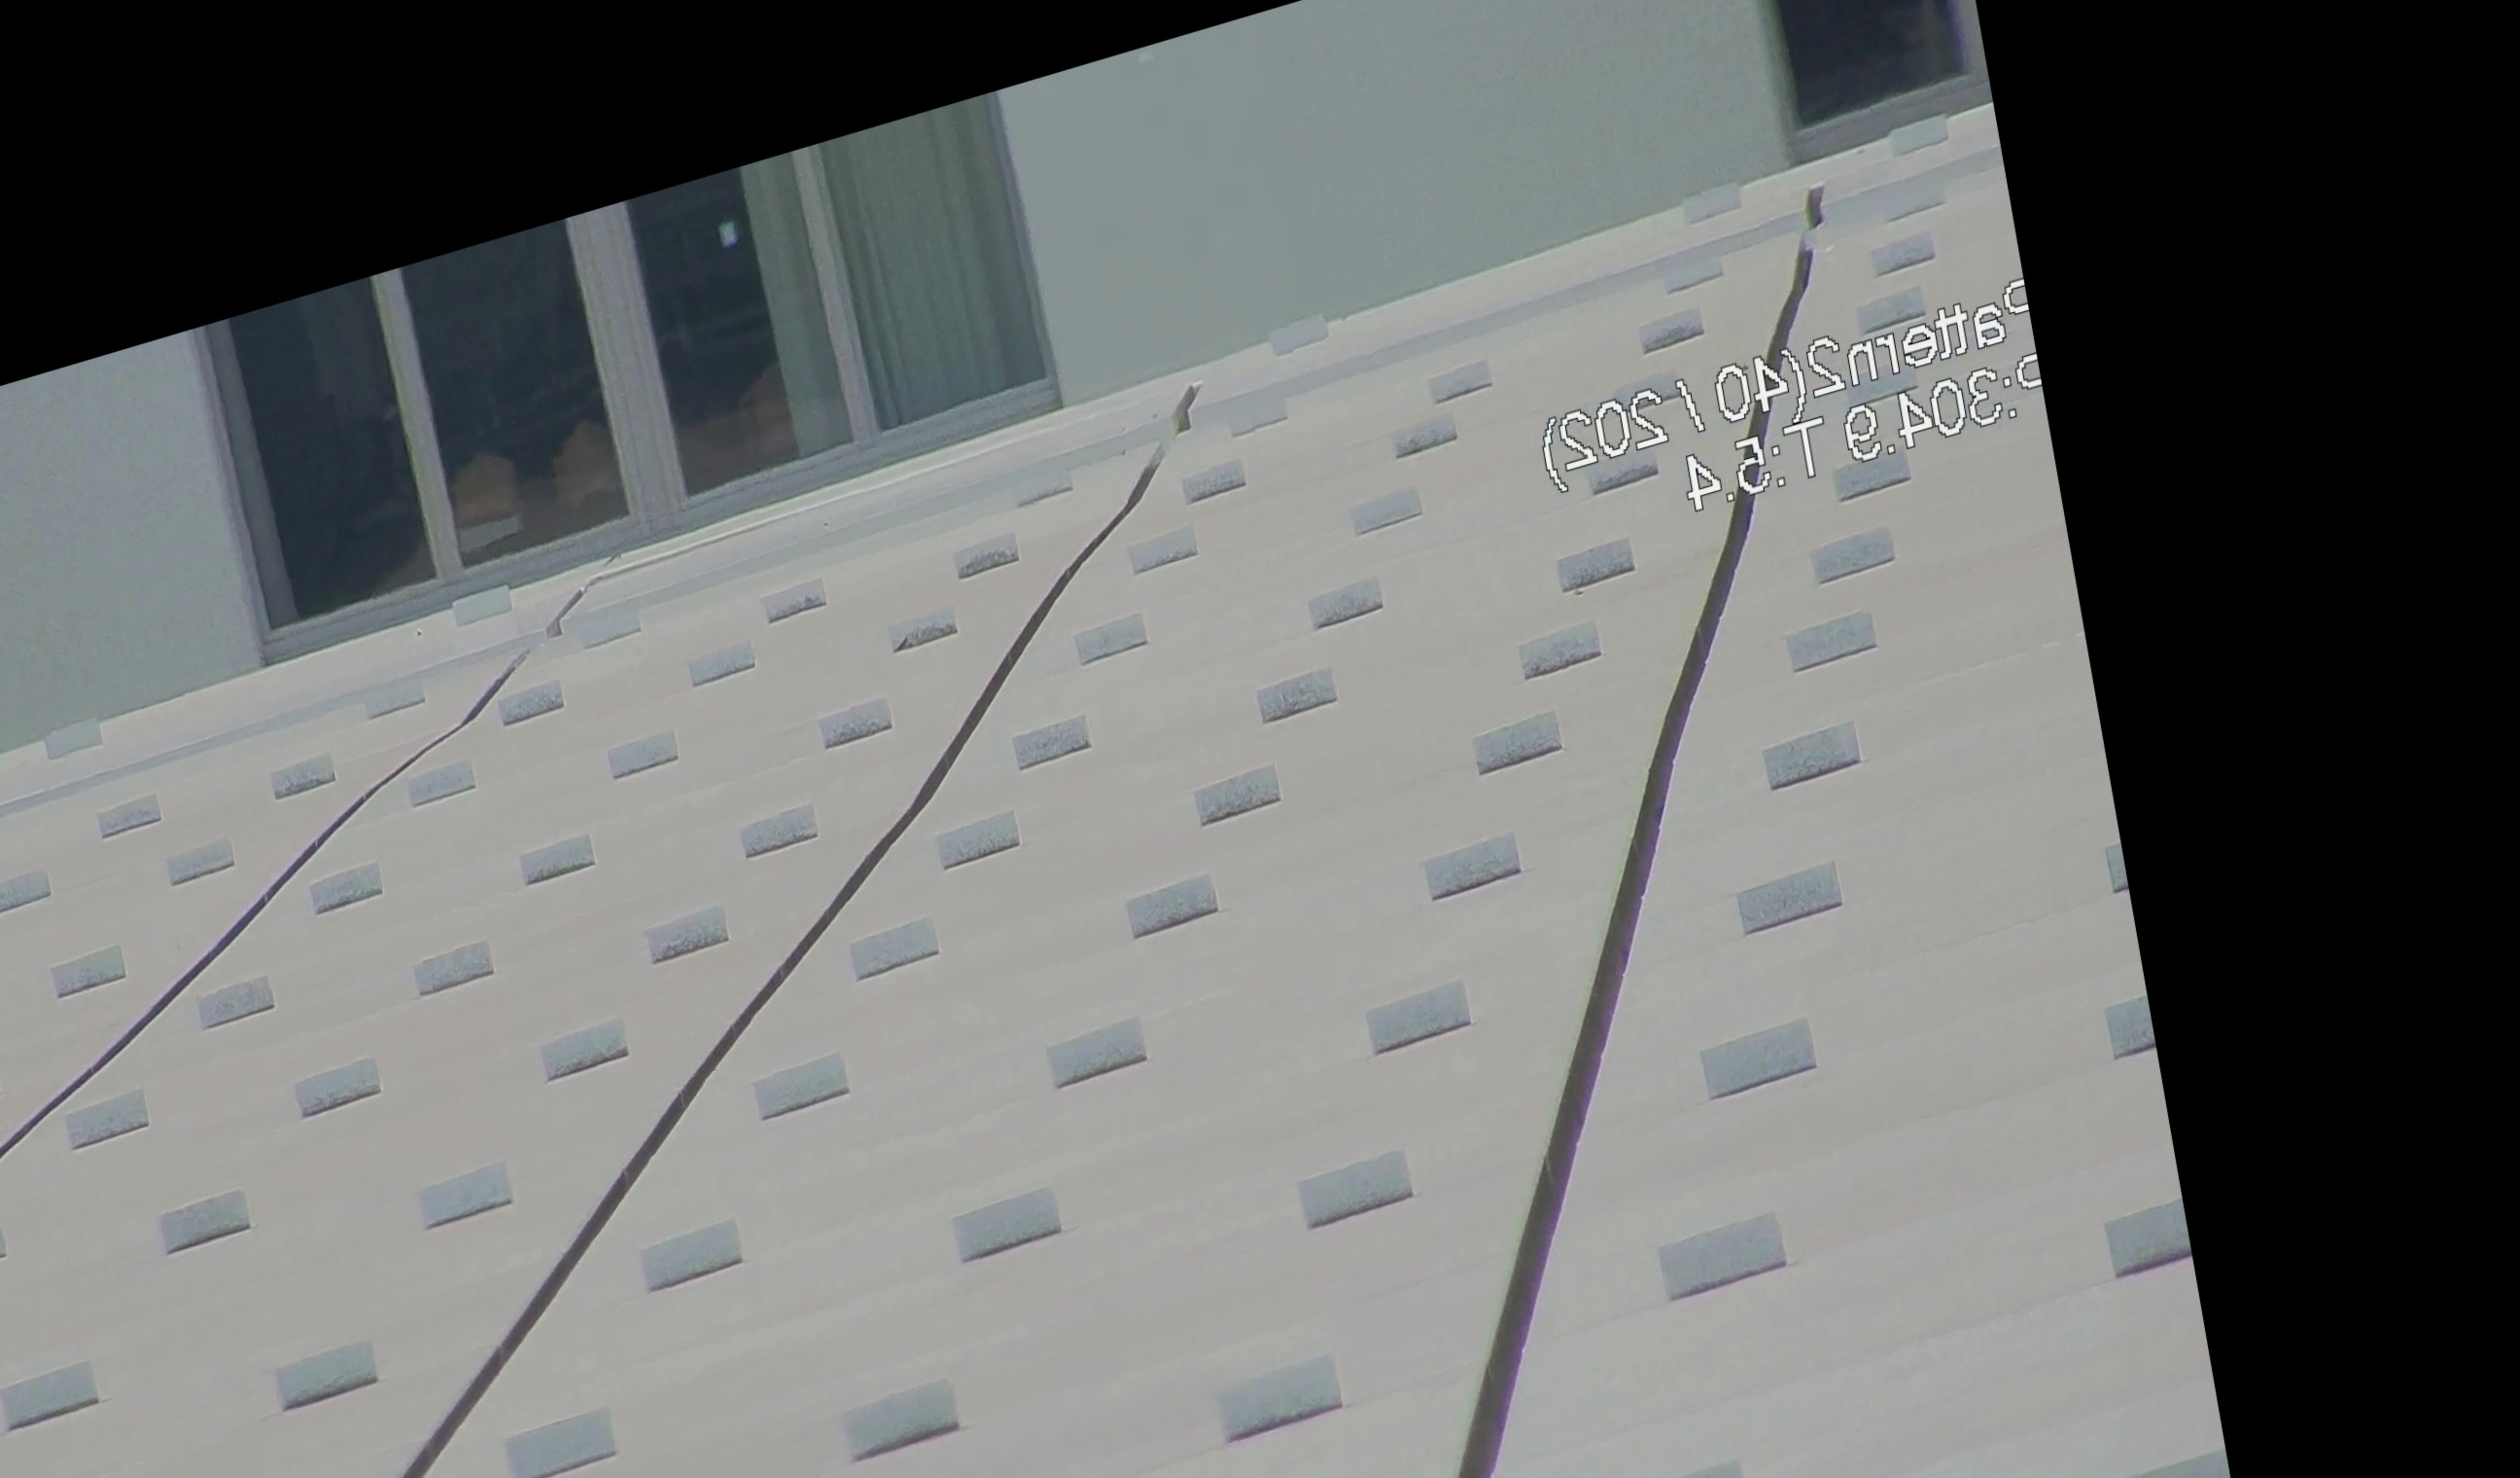Other: (1722, 179, 1882, 401)
